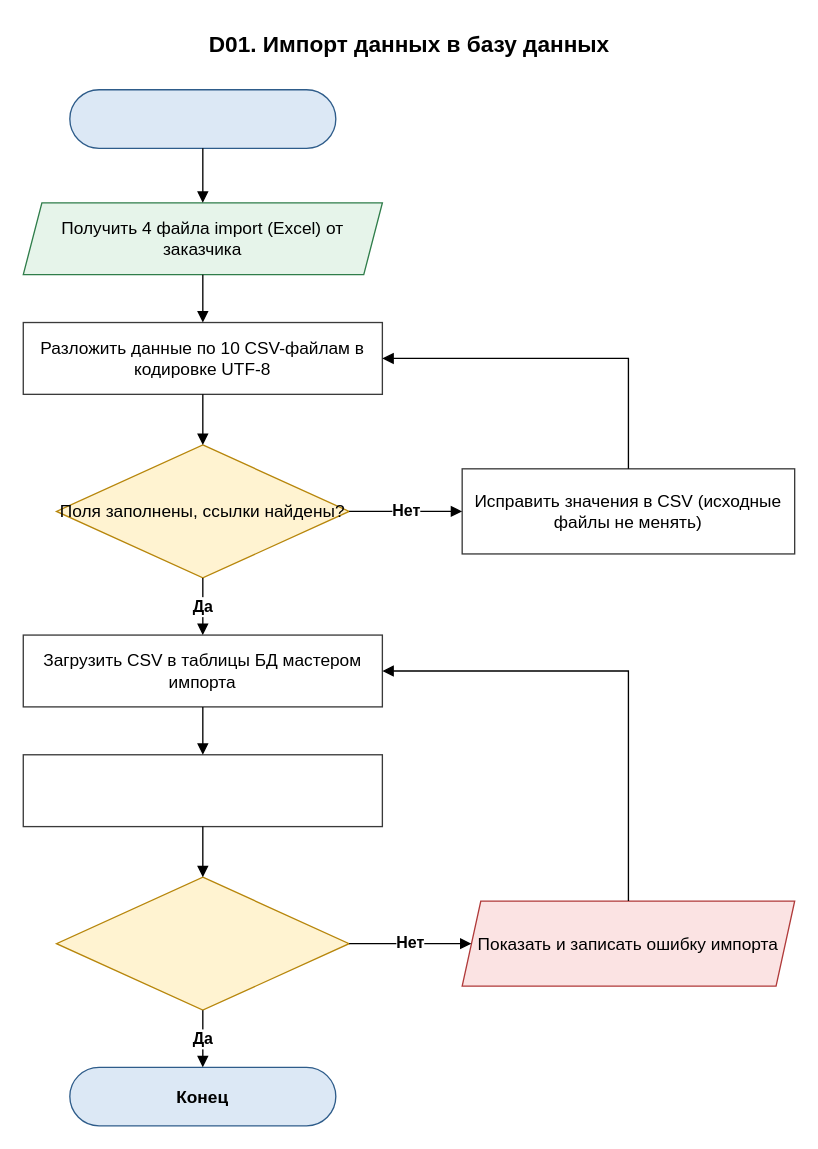
Some shapes in this 818 by 1149 pixel diagram are drawn without their labels. Here are the shapes that lost their labels. From the top down, the centre of each, then its label:
At point (202, 118): "Начало".
At point (202, 790): "Сравнить число записей с числом строк в файле".
At point (202, 943): "Импорт успешен?".
